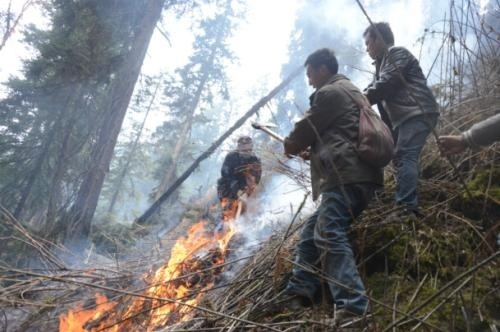fire: (61, 189, 248, 332)
